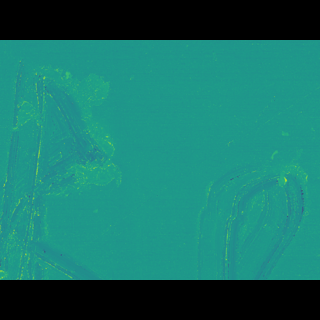Loch: (0, 81, 125, 250), (190, 157, 312, 250)
